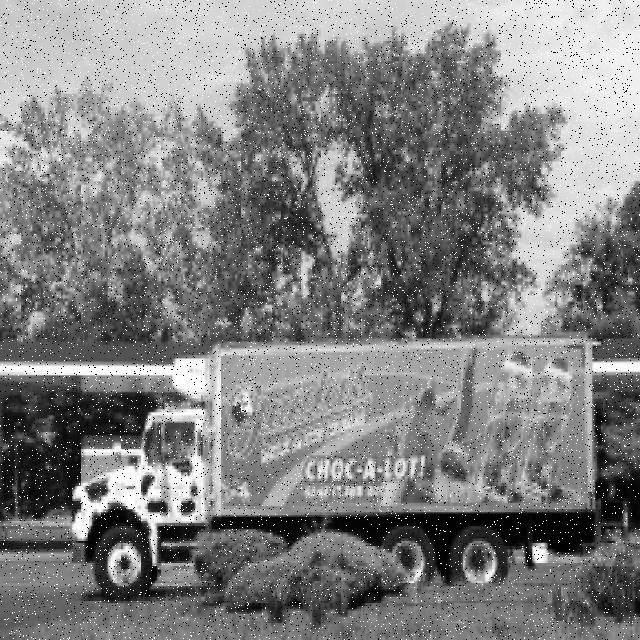Box Truck: (68, 338, 596, 601)
